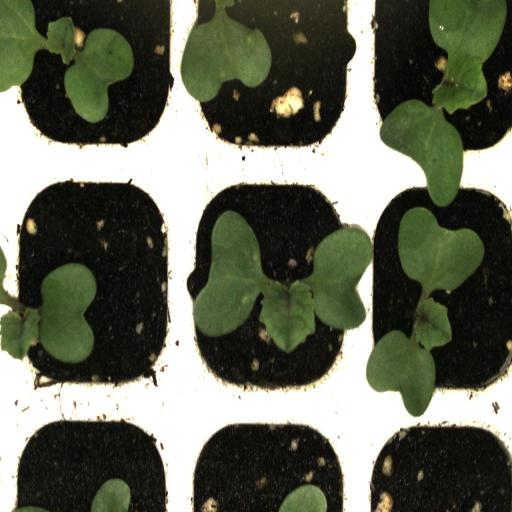Folha: (0, 263, 97, 364)
Germinacao: (2, 162, 181, 404), (182, 166, 364, 404), (363, 165, 512, 406), (5, 0, 184, 165), (365, 0, 512, 163)
